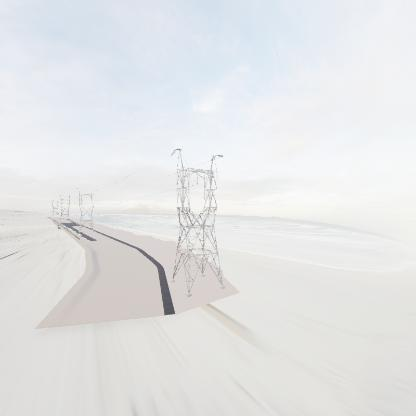tower: (166, 144, 228, 300)
